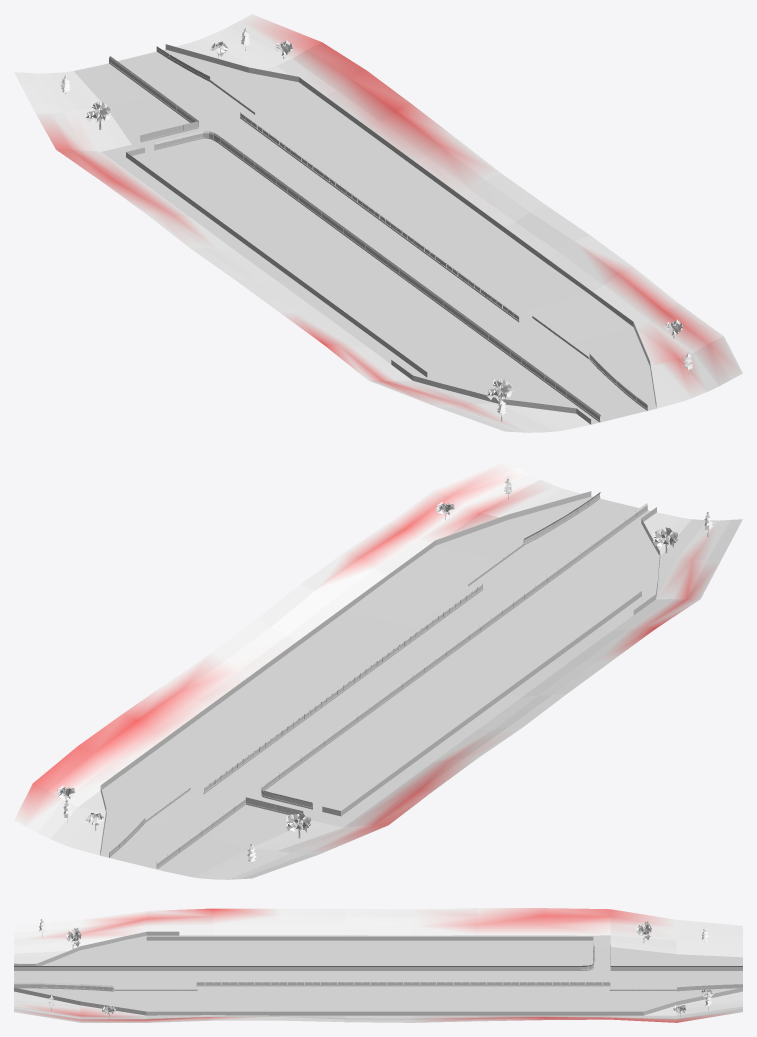
3 views of the same model, one above another, from view 1: azimuth 30°, elevation 25°; view 2: azimuth 150°, elevation 25°; view 3: azimuth 270°, elevation 25° (orthographic). The views are drawn at different scales.
Parts seen in each view (by area): view 1: Track, Grass, Road, Wirefence, Trees; view 2: Track, Grass, Road, Wirefence, Trees; view 3: Track, Grass, Road, Wirefence, Trees.
Boxes of the visible parts, left/top/right/bottom form: Track: left=74, top=44, right=656, bottom=424; Grass: left=14, top=14, right=742, bottom=432; Road: left=101, top=51, right=647, bottom=422; Wirefence: left=109, top=46, right=647, bottom=420; Trees: left=60, top=28, right=692, bottom=421; Track: left=100, top=491, right=660, bottom=877; Grass: left=14, top=461, right=742, bottom=879; Road: left=110, top=498, right=649, bottom=869; Wirefence: left=109, top=492, right=647, bottom=867; Trees: left=56, top=476, right=712, bottom=863; Track: left=14, top=931, right=742, bottom=1015; Grass: left=14, top=908, right=742, bottom=1022; Road: left=14, top=935, right=742, bottom=991; Wirefence: left=14, top=946, right=742, bottom=991; Trees: left=39, top=919, right=714, bottom=1018.
Size of what is drawn, in the model's own units: 18296 by 1873 by 50000.
